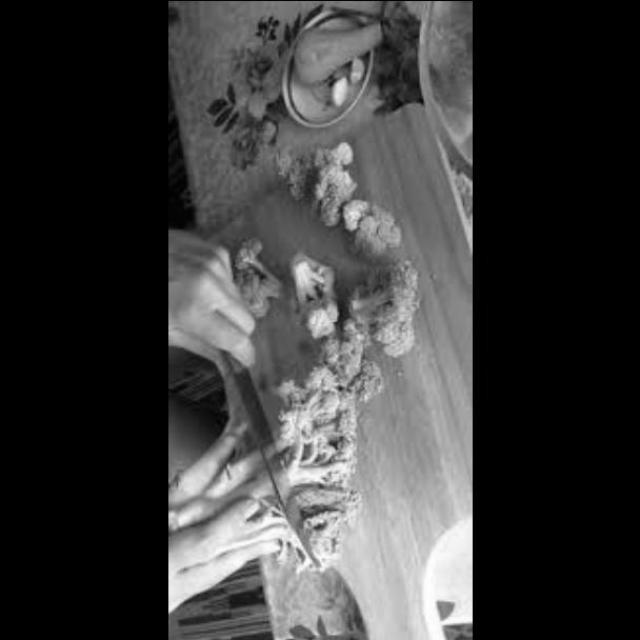broccoli: (238, 344, 375, 602), (268, 146, 390, 250), (343, 264, 419, 363), (274, 243, 354, 332), (204, 233, 272, 316)
ca rot: (288, 16, 388, 87)
garlic: (344, 56, 370, 87), (328, 74, 350, 107)
